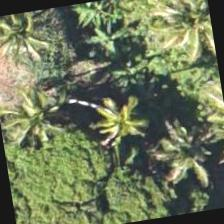Kelapa_Sawit: (67, 68, 170, 172), (138, 104, 223, 208), (137, 0, 219, 81), (0, 6, 75, 93)
